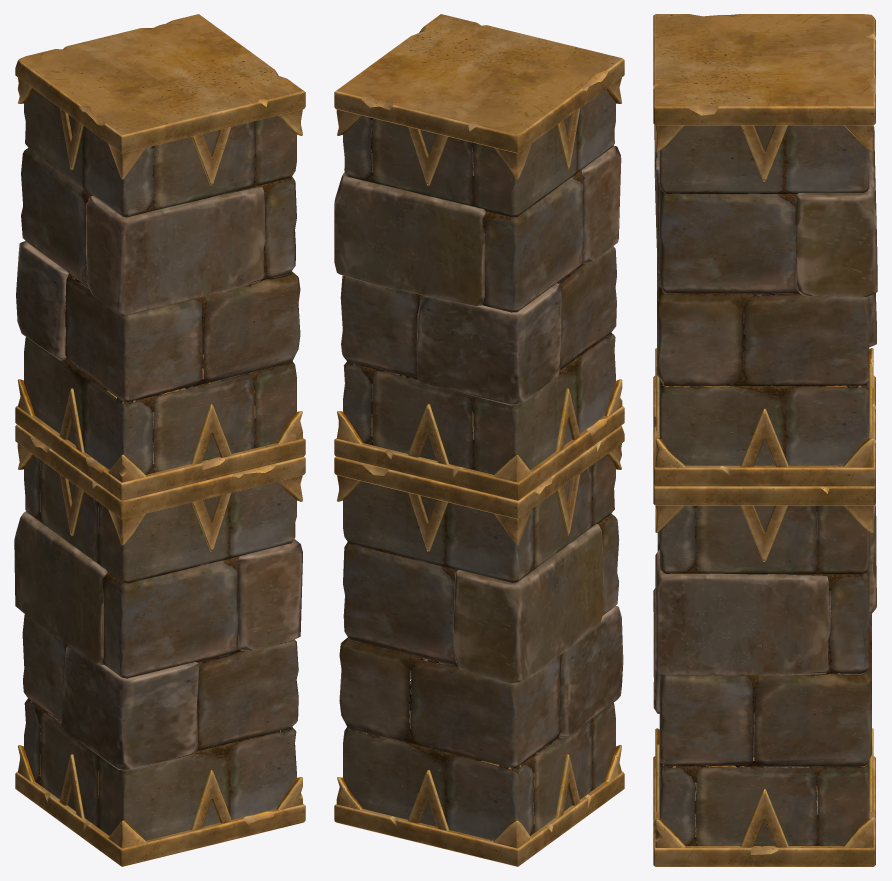
3 renders of one model, left to right at view 1: azimuth 30°, elevation 25°; view 2: azimuth 150°, elevation 25°; view 3: azimuth 270°, elevation 25°, orthographic. The views are drawn at different scales.
Visible parts, largest first — view 1: SM_AgilityPillar_2x8_LOD0; view 2: SM_AgilityPillar_2x8_LOD0; view 3: SM_AgilityPillar_2x8_LOD0.
Part boxes in pixels (x1,y1,x2,y2): SM_AgilityPillar_2x8_LOD0: [14, 14, 305, 866]; SM_AgilityPillar_2x8_LOD0: [334, 14, 624, 866]; SM_AgilityPillar_2x8_LOD0: [653, 14, 877, 866].
Size of the model in its own units: 2.15 by 8 by 2.14.
3 materials, 3 textured.
